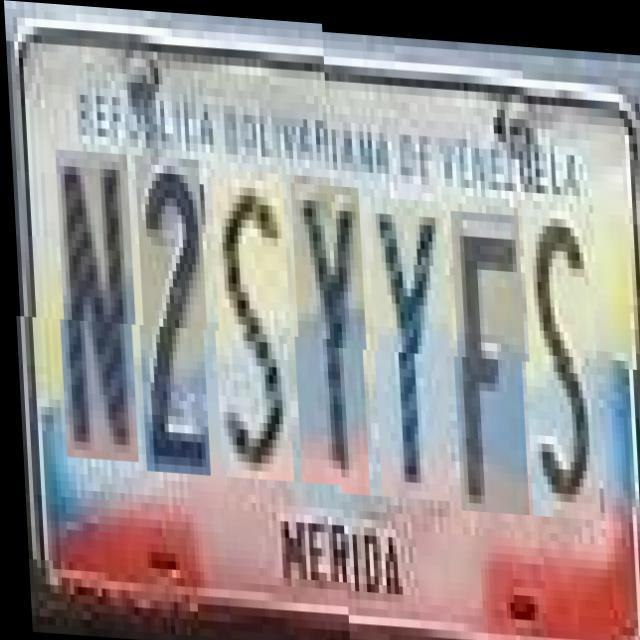2: (133, 162, 210, 482)
F: (448, 204, 528, 507)
N: (54, 157, 138, 469)
S: (210, 174, 294, 486), (520, 200, 600, 512)
Y: (368, 191, 452, 495), (289, 178, 369, 491)
